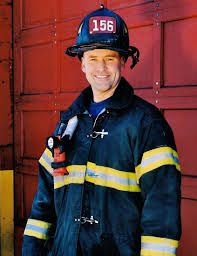emergent: (31, 6, 180, 256)
